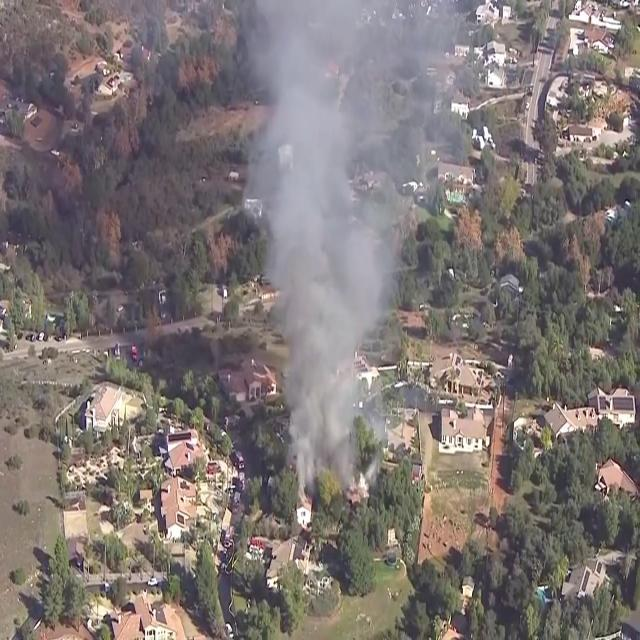Smoke: (230, 1, 425, 494)
